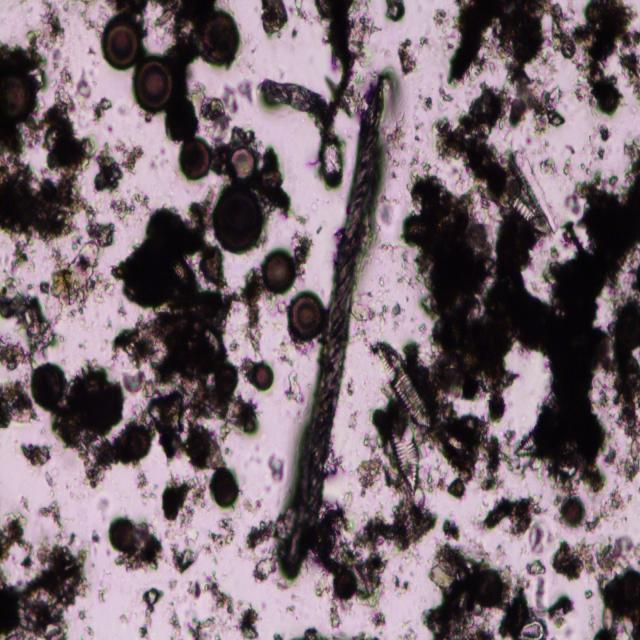Background material: (526, 131, 640, 489), (112, 198, 258, 471), (403, 172, 521, 398), (447, 0, 569, 133), (0, 100, 94, 270), (0, 527, 94, 638), (426, 541, 532, 638), (438, 84, 514, 208), (312, 496, 388, 606), (58, 365, 130, 476), (571, 0, 640, 115), (427, 397, 506, 493), (609, 266, 640, 430), (0, 285, 60, 365), (45, 238, 105, 313), (362, 493, 430, 558), (166, 34, 206, 138), (174, 516, 236, 575), (592, 573, 640, 638), (258, 142, 296, 216), (190, 82, 238, 135), (482, 496, 544, 537), (118, 524, 166, 575), (246, 515, 282, 582), (240, 266, 268, 351), (96, 138, 140, 192), (0, 374, 40, 430), (0, 515, 36, 574), (585, 489, 630, 534), (162, 478, 207, 522), (0, 37, 46, 78), (351, 1, 379, 68), (39, 1, 68, 65), (555, 538, 598, 579), (548, 0, 576, 60), (52, 63, 94, 101), (596, 534, 636, 572), (139, 585, 166, 636), (85, 208, 117, 249), (205, 573, 235, 615), (122, 368, 160, 400), (358, 454, 388, 492), (547, 593, 575, 632), (261, 1, 289, 40), (388, 126, 408, 176), (110, 195, 136, 233), (21, 436, 52, 466), (187, 612, 220, 639), (398, 35, 416, 79), (39, 497, 63, 529), (287, 369, 307, 407), (292, 237, 310, 278), (237, 606, 259, 639), (352, 297, 378, 324), (215, 142, 233, 180), (532, 577, 548, 618), (440, 514, 460, 546), (168, 604, 186, 639), (529, 521, 547, 556), (265, 456, 284, 487), (598, 127, 614, 163), (391, 571, 414, 594), (619, 458, 640, 482), (385, 0, 409, 21), (601, 448, 621, 472), (186, 575, 202, 601), (369, 606, 387, 629), (525, 558, 546, 576), (94, 97, 111, 119), (300, 624, 318, 638), (632, 440, 640, 461)
Diatom: (263, 2, 353, 189), (375, 336, 428, 424), (214, 188, 262, 254), (499, 166, 549, 229), (198, 8, 242, 69), (133, 56, 175, 114), (101, 17, 143, 74), (390, 418, 420, 495), (288, 293, 324, 344), (0, 70, 34, 121), (32, 362, 64, 411), (179, 139, 212, 178), (264, 252, 294, 290), (514, 431, 550, 462), (109, 517, 136, 554), (212, 471, 238, 507), (126, 424, 150, 462), (230, 146, 256, 180), (333, 569, 358, 602), (560, 494, 584, 527), (214, 360, 236, 396), (253, 361, 275, 390), (519, 618, 547, 639), (152, 11, 175, 26)
Natural material: (285, 78, 387, 569)
